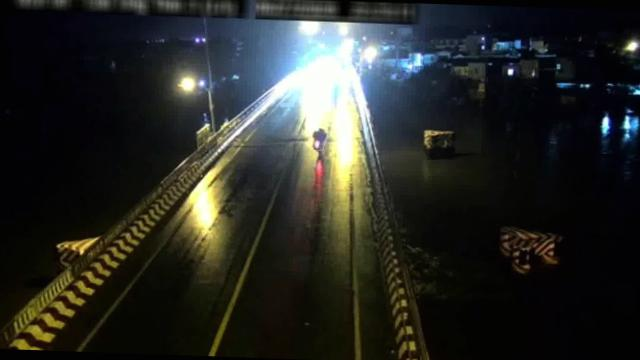Bike: (311, 125, 328, 151)
